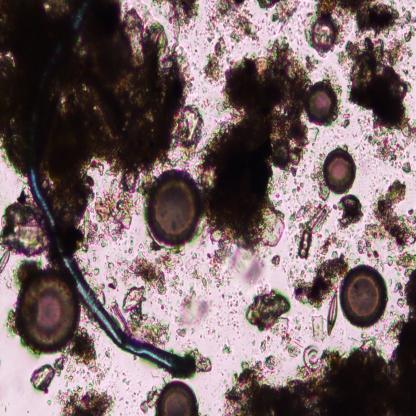Background material: (0, 0, 206, 174), (201, 39, 315, 249), (224, 341, 416, 415), (336, 39, 416, 173), (114, 248, 188, 337), (42, 166, 104, 258), (183, 239, 269, 289), (364, 182, 416, 262), (246, 286, 302, 356), (92, 168, 144, 242), (315, 1, 416, 38), (291, 251, 352, 308), (385, 249, 416, 361), (0, 194, 51, 258), (292, 193, 334, 258), (206, 0, 260, 42), (56, 378, 114, 414), (160, 0, 196, 54), (68, 332, 107, 381), (176, 288, 210, 340), (256, 0, 300, 34), (29, 353, 68, 390), (332, 192, 366, 230), (201, 39, 225, 81), (224, 292, 244, 336), (10, 254, 39, 278), (187, 346, 211, 374), (141, 389, 161, 412), (270, 253, 282, 267)
Diatom: (15, 271, 82, 352), (147, 168, 206, 249), (339, 262, 389, 332), (324, 145, 358, 193), (157, 381, 199, 415), (307, 81, 336, 123), (309, 15, 337, 55), (302, 343, 322, 374), (327, 291, 339, 336), (0, 249, 10, 272)
Microfibre: (28, 166, 190, 376)
